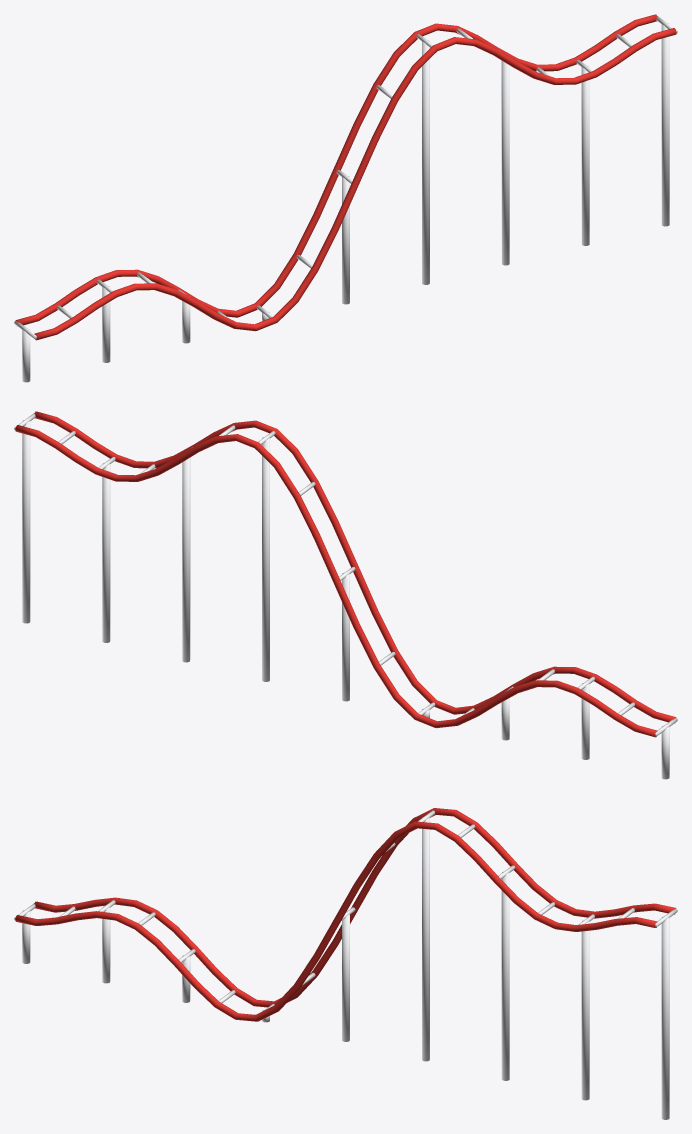
File: coaster.glb
3 views of the same model, one above another, from view 1: azimuth 30°, elevation 25°; view 2: azimuth 150°, elevation 25°; view 3: azimuth 330°, elevation 25° (orthographic).
Visible parts, largest first — view 1: Body; view 2: Body; view 3: Body.
Boxes of the visible parts, left/top/right/bottom form: Body: left=14, top=14, right=677, bottom=382; Body: left=14, top=411, right=677, bottom=779; Body: left=14, top=808, right=677, bottom=1119.
Size of the model in its own units: 16.18 by 5.93 by 0.96.
